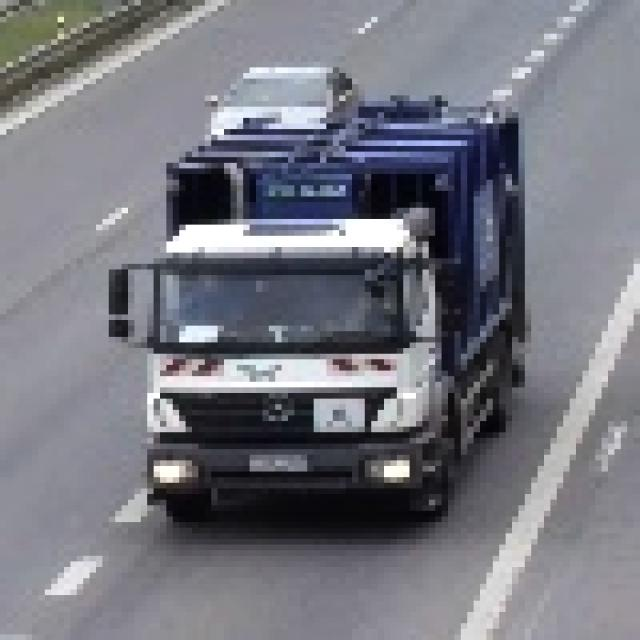truck: (103, 85, 526, 529)
